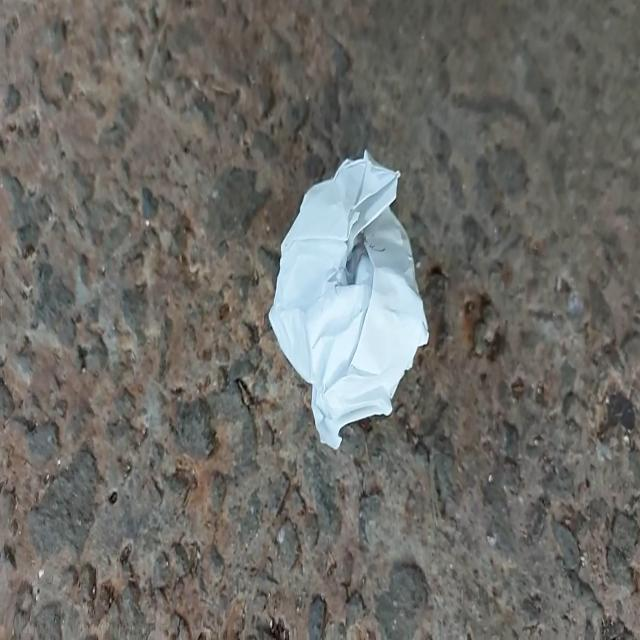Paper: (259, 132, 436, 463)
